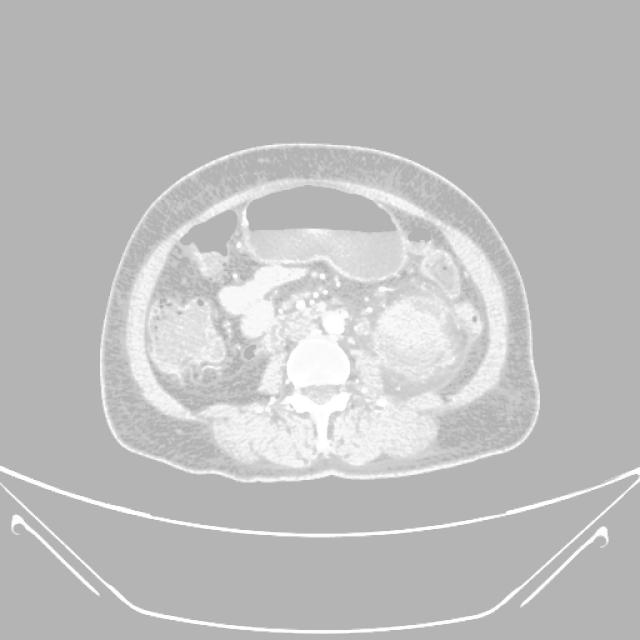TUMOR: (100, 193, 475, 352)
